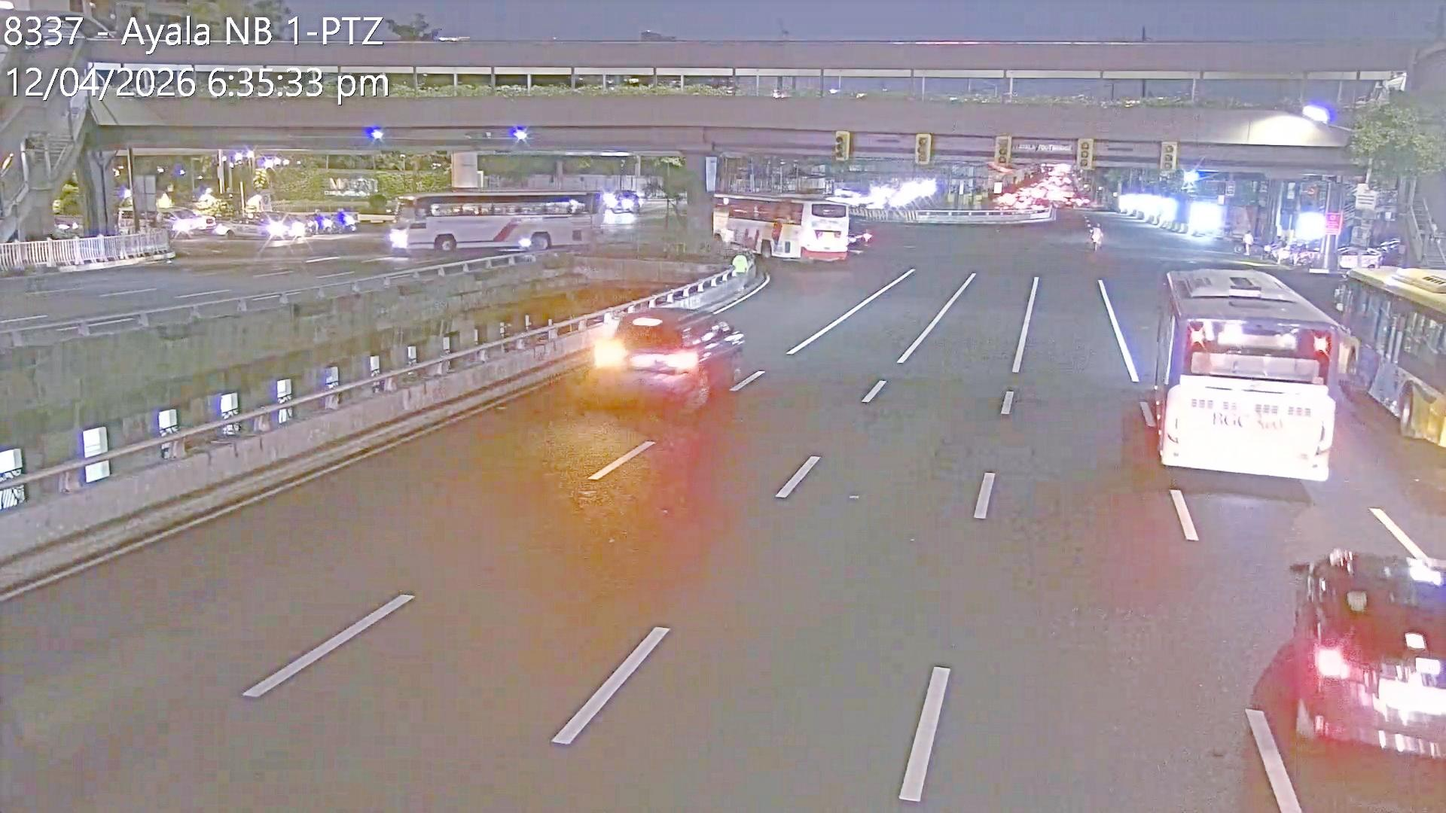Car: (1289, 548, 1446, 769), (588, 306, 750, 413)
Motor: (1088, 223, 1104, 249)
